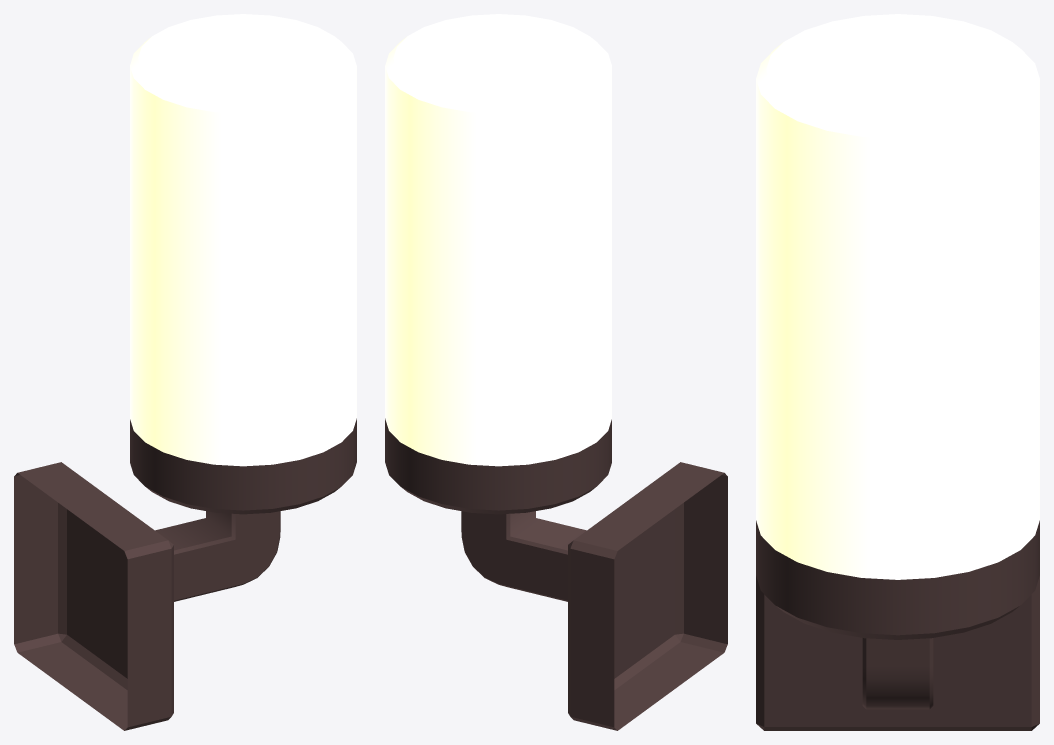
Rendered from WallLampBlockout_RB.fbx.
3 views of the same model, side by side, from view 1: azimuth 30°, elevation 25°; view 2: azimuth 150°, elevation 25°; view 3: azimuth 270°, elevation 25° (orthographic). The views are drawn at different scales.
Parts seen in each view (by area): view 1: Lamplamplamplmaplamp, WallLampBlockout_RB; view 2: Lamplamplamplmaplamp, WallLampBlockout_RB; view 3: Lamplamplamplmaplamp, WallLampBlockout_RB.
Boxes of the visible parts, <box> form: Lamplamplamplmaplamp: <box>130,14,356,466</box>; WallLampBlockout_RB: <box>14,418,356,730</box>; Lamplamplamplmaplamp: <box>385,14,611,466</box>; WallLampBlockout_RB: <box>385,418,727,730</box>; Lamplamplamplmaplamp: <box>756,14,1039,579</box>; WallLampBlockout_RB: <box>756,520,1039,730</box>.
Bounding box in the file's own units: 99.2 × 207 × 72.
